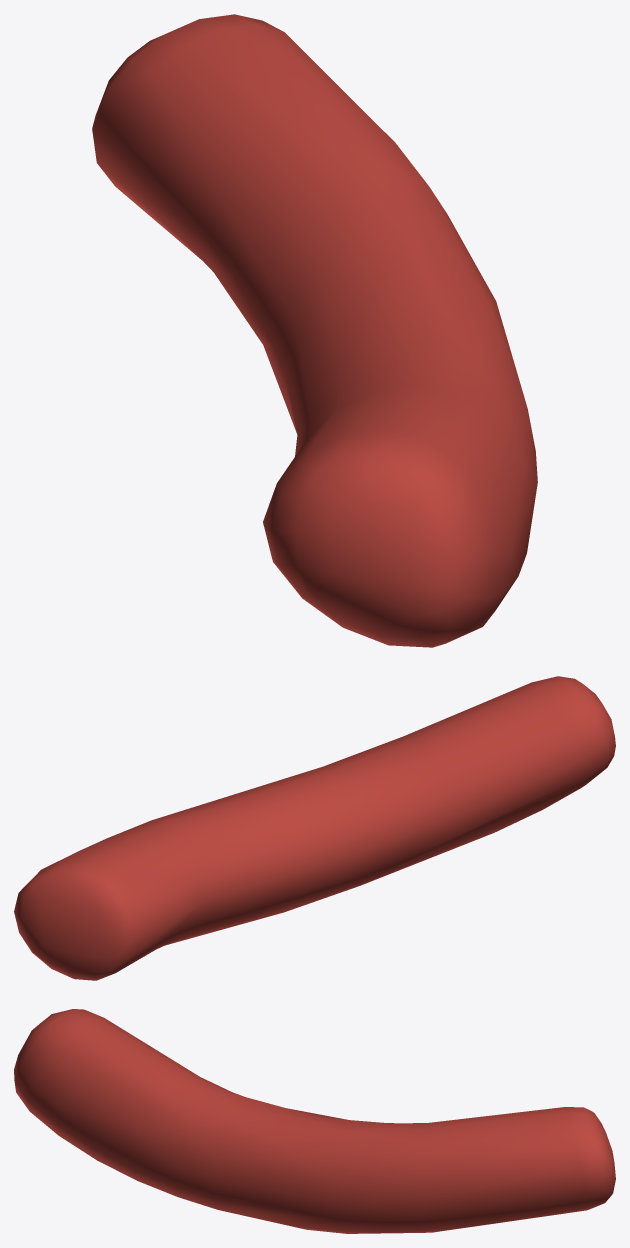
File: musculos-plantar-tendon-sheath-of-fibularis-longus-muscle-l.glb
3 renders of one model, top to bottom at view 1: azimuth 30°, elevation 25°; view 2: azimuth 150°, elevation 25°; view 3: azimuth 270°, elevation 25°, orthographic. The views are drawn at different scales.
Visible parts, largest first — view 1: Plantar tendon sheath of fibularis longus muscle.l; view 2: Plantar tendon sheath of fibularis longus muscle.l; view 3: Plantar tendon sheath of fibularis longus muscle.l.
Part boxes in pixels (<box>): Plantar tendon sheath of fibularis longus muscle.l: <box>92,14,537,647</box>; Plantar tendon sheath of fibularis longus muscle.l: <box>14,676,615,980</box>; Plantar tendon sheath of fibularis longus muscle.l: <box>14,1009,615,1233</box>.
Bounding box in the file's own units: 0.0138 × 0.00711 × 0.027.
